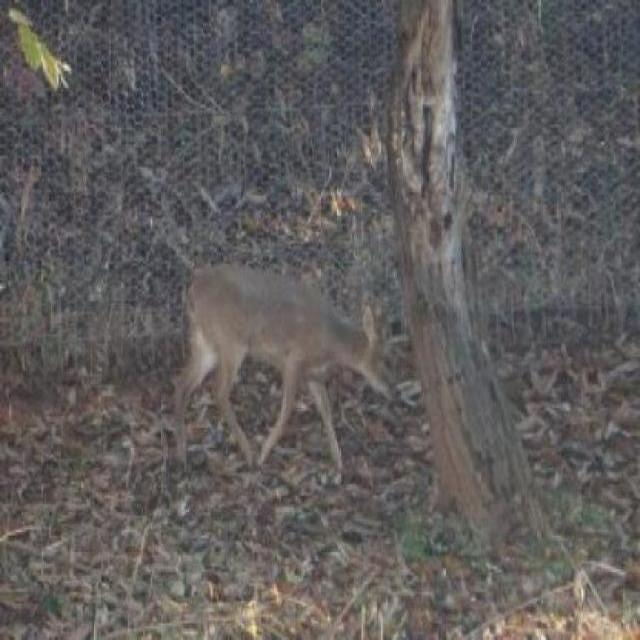deer: (172, 241, 402, 476)
